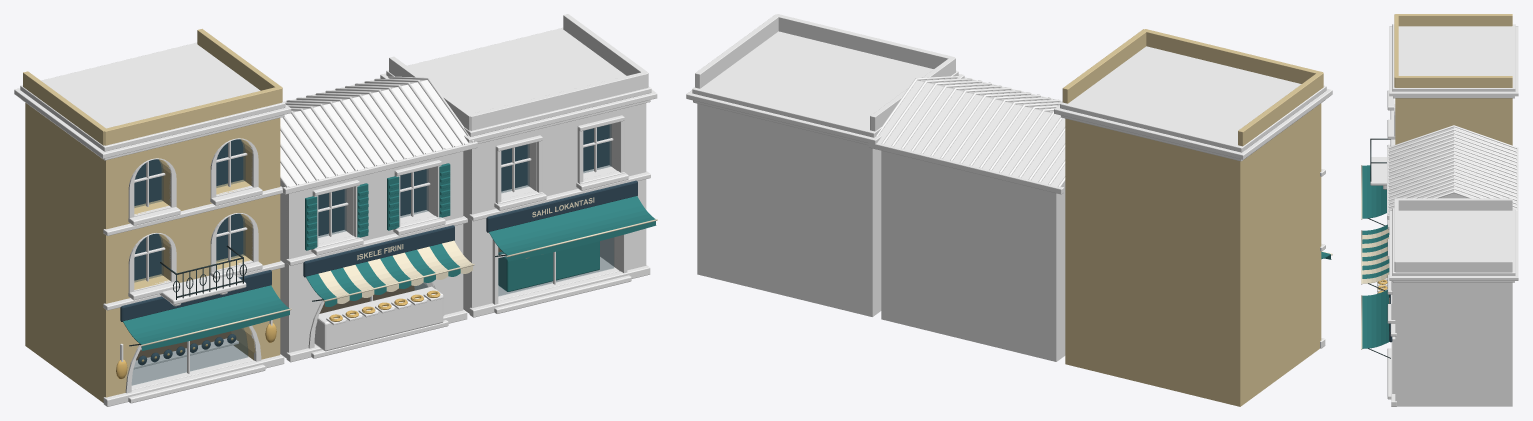
Rendered from DistrictBlock_2_2.glb.
3 views of the same model, side by side, from view 1: azimuth 30°, elevation 25°; view 2: azimuth 150°, elevation 25°; view 3: azimuth 270°, elevation 25° (orthographic). The views are drawn at different scales.
Parts seen in each view (by area): view 1: RK_DistrictBlock_2_2_LC_Lime, RK_DistrictBlock_2_2_LC_Ochre, RK_DistrictBlock_2_2_LC_Teal, RK_DistrictBlock_2_2_LC_Coral, RK_DistrictBlock_2_2_LC_Tile, RK_DistrictBlock_2_2_LC_Ink, RK_DistrictBlock_2_2_LC_Glass, RK_DistrictBlock_2_2_LC_Wood, RK_DistrictBlock_2_2_LC_Cream, RK_DistrictBlock_2_2_LC_Canvas, RK_DistrictBlock_2_2_LC_Iron, RK_DistrictBlock_2_2_LC_Gold (+1 smaller); view 2: RK_DistrictBlock_2_2_LC_Ochre, RK_DistrictBlock_2_2_LC_Coral, RK_DistrictBlock_2_2_LC_Lime, RK_DistrictBlock_2_2_LC_Cream, RK_DistrictBlock_2_2_LC_Tile, RK_DistrictBlock_2_2_LC_Wood; view 3: RK_DistrictBlock_2_2_LC_Coral, RK_DistrictBlock_2_2_LC_Lime, RK_DistrictBlock_2_2_LC_Tile, RK_DistrictBlock_2_2_LC_Ochre, RK_DistrictBlock_2_2_LC_Teal, RK_DistrictBlock_2_2_LC_Canvas, RK_DistrictBlock_2_2_LC_Wood, RK_DistrictBlock_2_2_LC_Iron.
Boxes of the visible parts, <box> form: RK_DistrictBlock_2_2_LC_Lime: <box>14,27,657,406</box>; RK_DistrictBlock_2_2_LC_Ochre: <box>23,29,282,402</box>; RK_DistrictBlock_2_2_LC_Teal: <box>123,163,656,350</box>; RK_DistrictBlock_2_2_LC_Coral: <box>389,14,648,313</box>; RK_DistrictBlock_2_2_LC_Tile: <box>280,76,474,187</box>; RK_DistrictBlock_2_2_LC_Ink: <box>120,124,637,365</box>; RK_DistrictBlock_2_2_LC_Glass: <box>132,124,613,385</box>; RK_DistrictBlock_2_2_LC_Wood: <box>120,80,619,390</box>; RK_DistrictBlock_2_2_LC_Cream: <box>280,151,463,358</box>; RK_DistrictBlock_2_2_LC_Canvas: <box>140,197,657,346</box>; RK_DistrictBlock_2_2_LC_Iron: <box>129,245,506,346</box>; RK_DistrictBlock_2_2_LC_Gold: <box>116,290,440,379</box>; RK_DistrictBlock_2_2_LC_Ochre: <box>1062,29,1323,406</box>; RK_DistrictBlock_2_2_LC_Coral: <box>695,14,955,316</box>; RK_DistrictBlock_2_2_LC_Lime: <box>686,31,1332,348</box>; RK_DistrictBlock_2_2_LC_Cream: <box>881,150,1065,361</box>; RK_DistrictBlock_2_2_LC_Tile: <box>876,76,1065,187</box>; RK_DistrictBlock_2_2_LC_Wood: <box>868,77,1064,194</box>; RK_DistrictBlock_2_2_LC_Coral: <box>1394,198,1512,406</box>; RK_DistrictBlock_2_2_LC_Lime: <box>1370,24,1518,406</box>; RK_DistrictBlock_2_2_LC_Tile: <box>1388,125,1517,214</box>; RK_DistrictBlock_2_2_LC_Ochre: <box>1394,14,1512,145</box>; RK_DistrictBlock_2_2_LC_Teal: <box>1362,165,1389,348</box>; RK_DistrictBlock_2_2_LC_Canvas: <box>1361,165,1389,349</box>; RK_DistrictBlock_2_2_LC_Wood: <box>1387,147,1518,286</box>; RK_DistrictBlock_2_2_LC_Iron: <box>1368,138,1390,358</box>.
Bounding box in the file's own units: 19.1 × 9.02 × 6.44.
